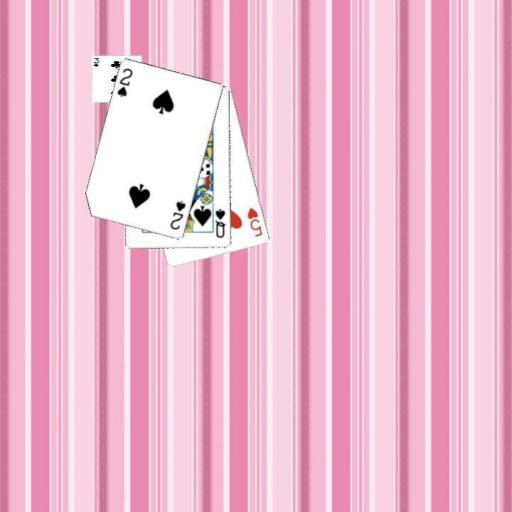card-corner: (244, 204, 264, 239), (167, 198, 187, 232), (114, 65, 134, 99), (212, 206, 227, 240)
